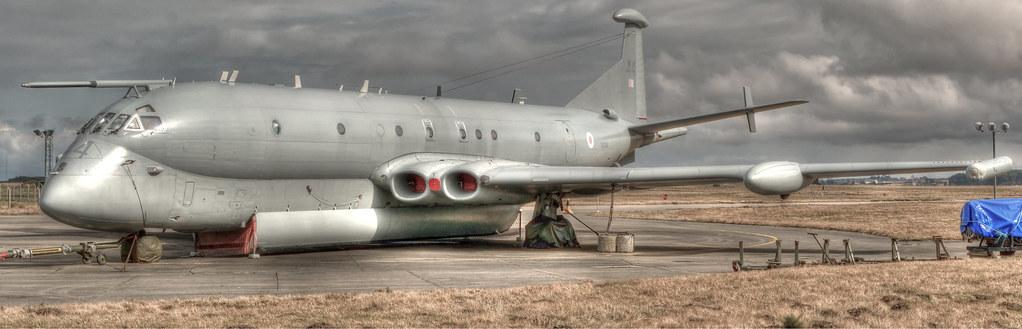plane: (22, 9, 1016, 263)
